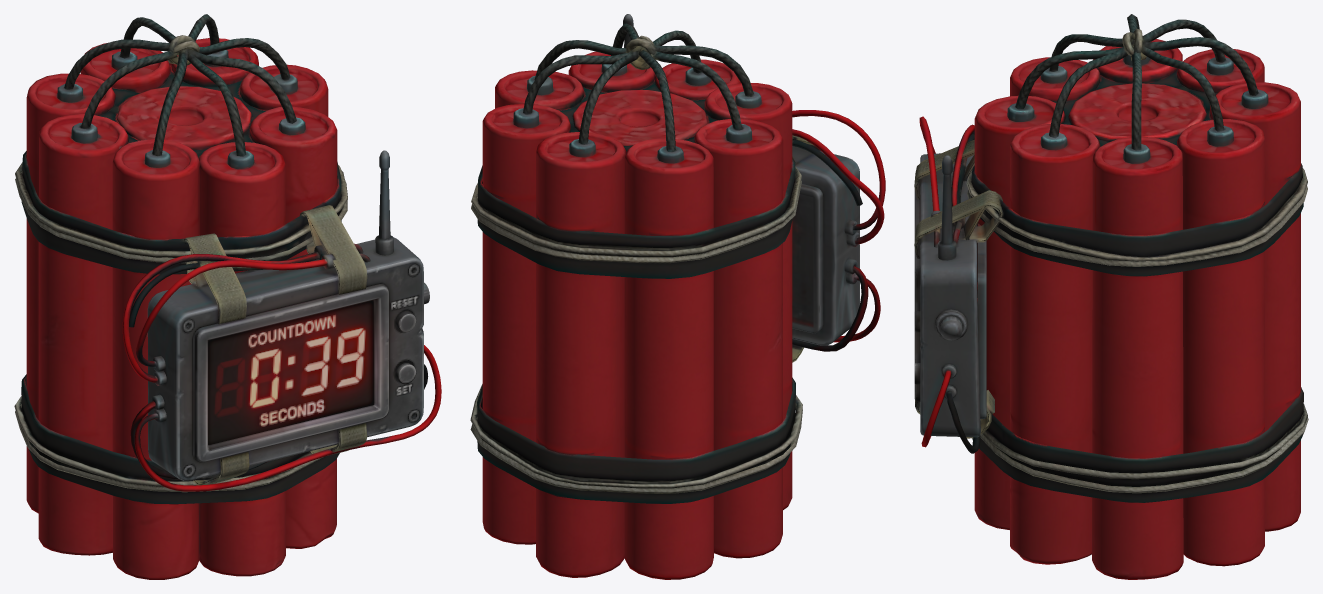
File: SM_DynamiteBundle.fbx
3 views of the same model, side by side, from view 1: azimuth 30°, elevation 25°; view 2: azimuth 150°, elevation 25°; view 3: azimuth 270°, elevation 25° (orthographic).
Visible parts, largest first — view 1: tripo_1c9a9043_6d38_4b25_abf4_5d27fa419276; view 2: tripo_1c9a9043_6d38_4b25_abf4_5d27fa419276; view 3: tripo_1c9a9043_6d38_4b25_abf4_5d27fa419276.
Boxes of the visible parts, x1,y1,x2,y2 form: tripo_1c9a9043_6d38_4b25_abf4_5d27fa419276: (14,14,441,579); tripo_1c9a9043_6d38_4b25_abf4_5d27fa419276: (470,14,885,579); tripo_1c9a9043_6d38_4b25_abf4_5d27fa419276: (914,14,1308,579).
Bounding box in the file's own units: 0.6636 × 0.9995 × 0.7358.
1 material, 1 textured.
